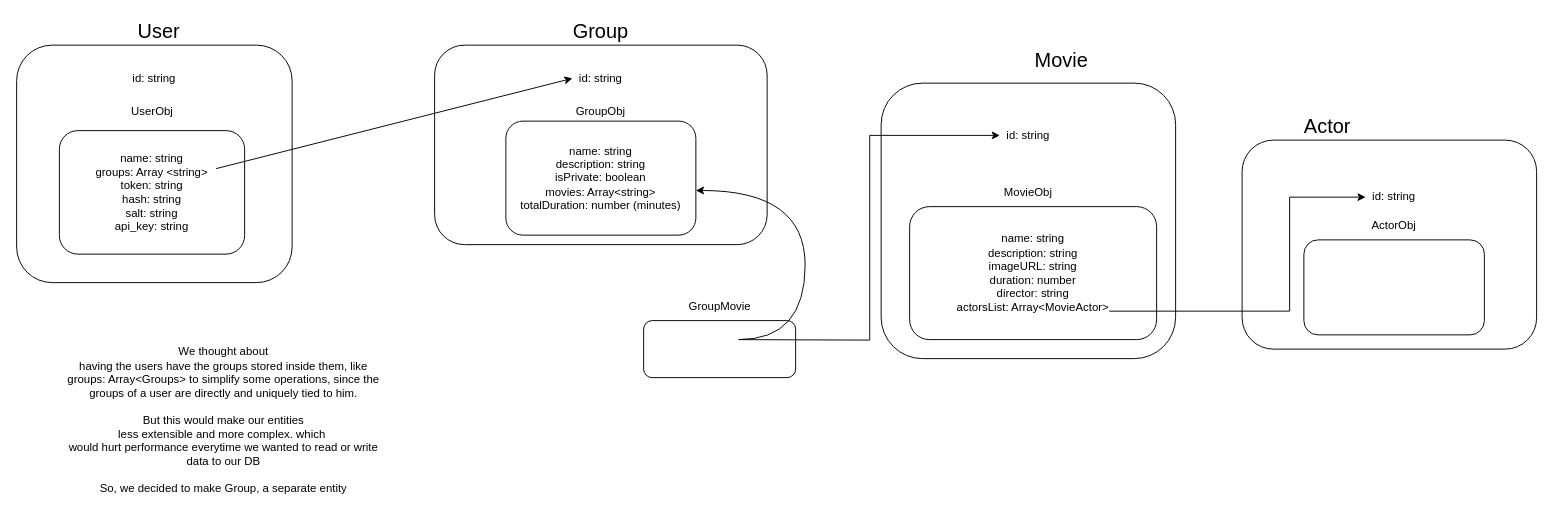
Some shapes in this 1553 by 526 pixel diagram are drawn without their labels. The shapes that lost their labels are listed below. From the top down, each one's centre as x and y in pixels, then its label:
At [1393,287]: "name: string imageURL: string birthDate: string".
At [719,349]: "id: string name: string duration: string".
